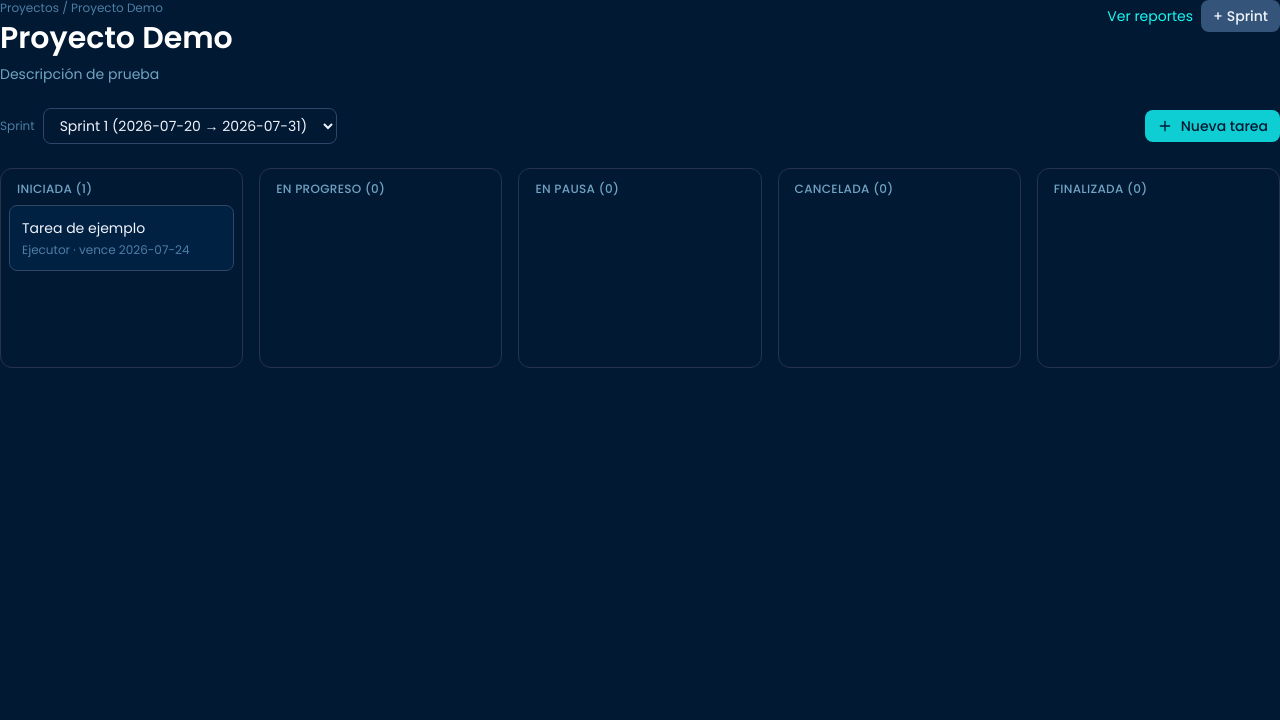
Test: ProjectDetailPage — modal de tarea › el admin editando una tarea SÍ ve el selector de reasignar
Step 1. Click the element with test id "task-card-t-1" → (122,238), box [9,205,234,271]
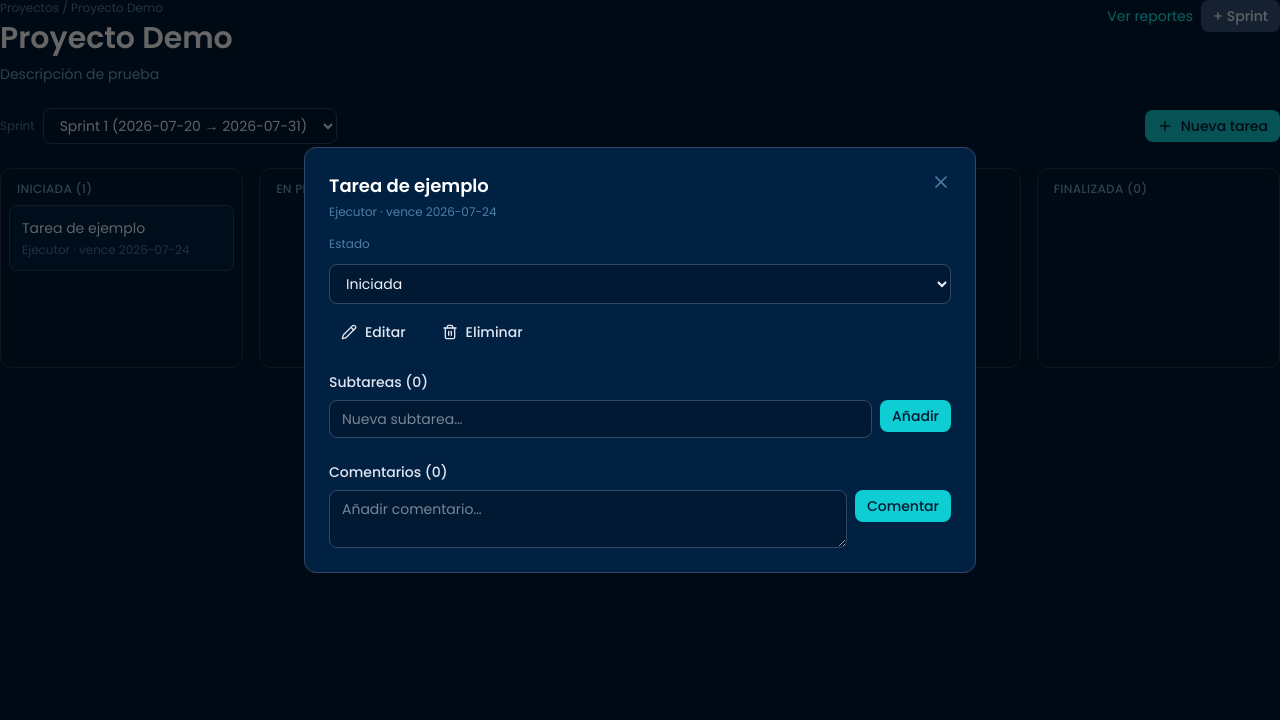
Step 2. Click the button "Editar" → (373,332), box [329,316,418,348]
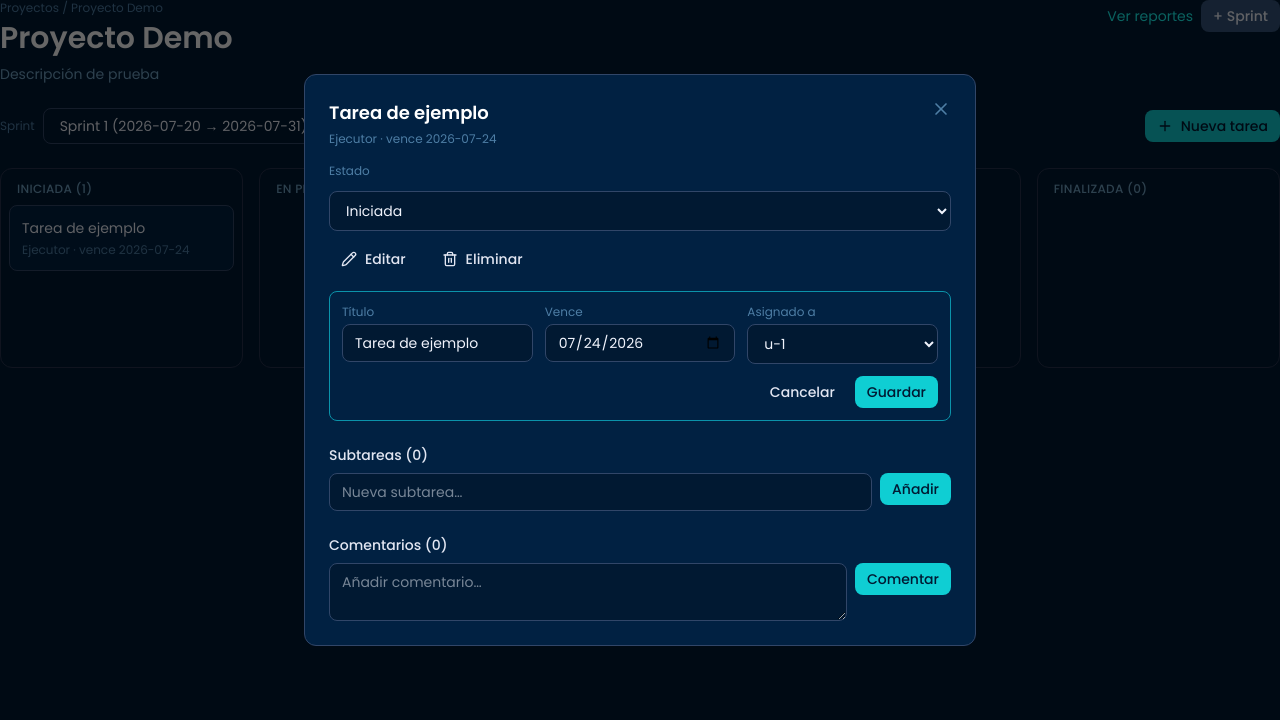
Expected: the dropdown with test id "edit-assignee-select" is shown, [747,324,938,364]
